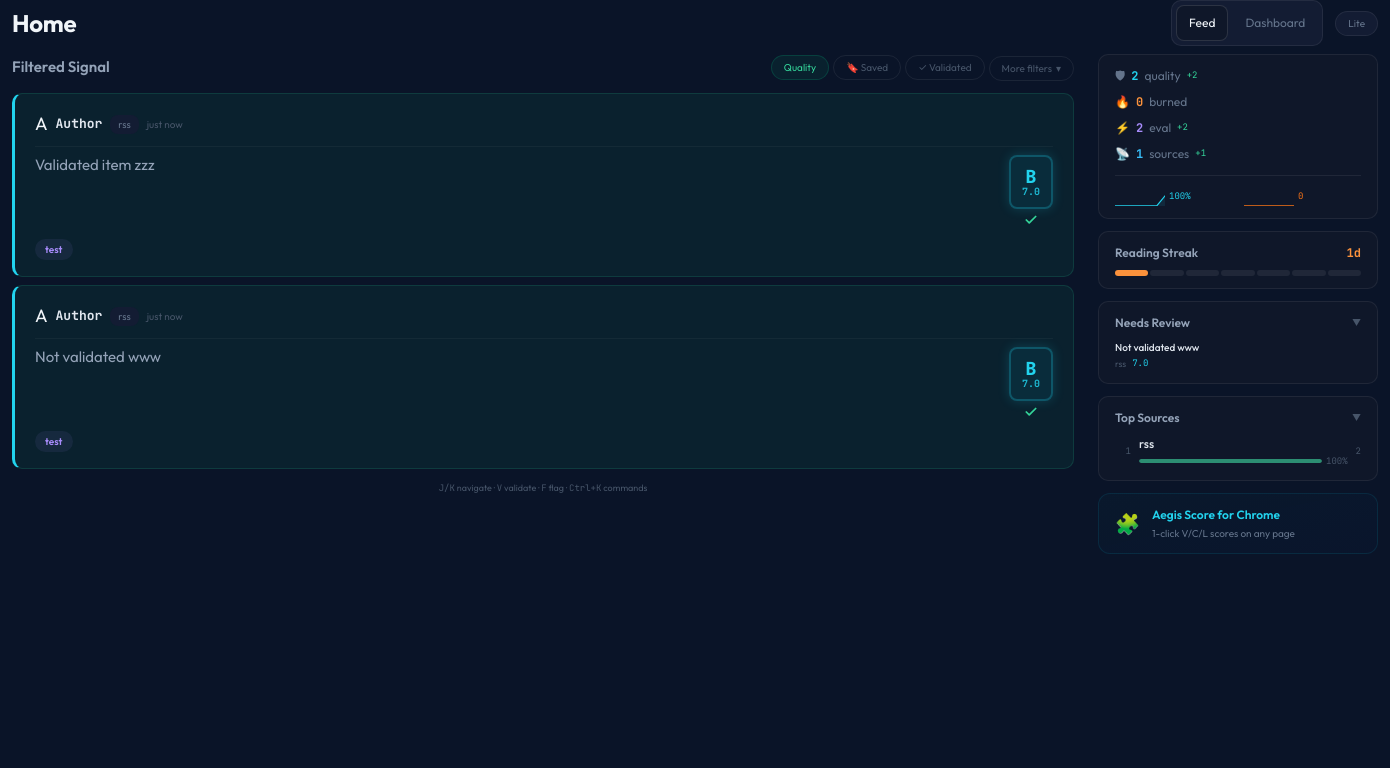
Test: DashboardTab — Latest Feed Behavior › Validated filter shows only validated items with timestamp badge
The width and height of the screenshot is (1390, 768).
Click the button with test id "aegis-filter-validated".
click(945, 68)  # box [905,55,985,80]
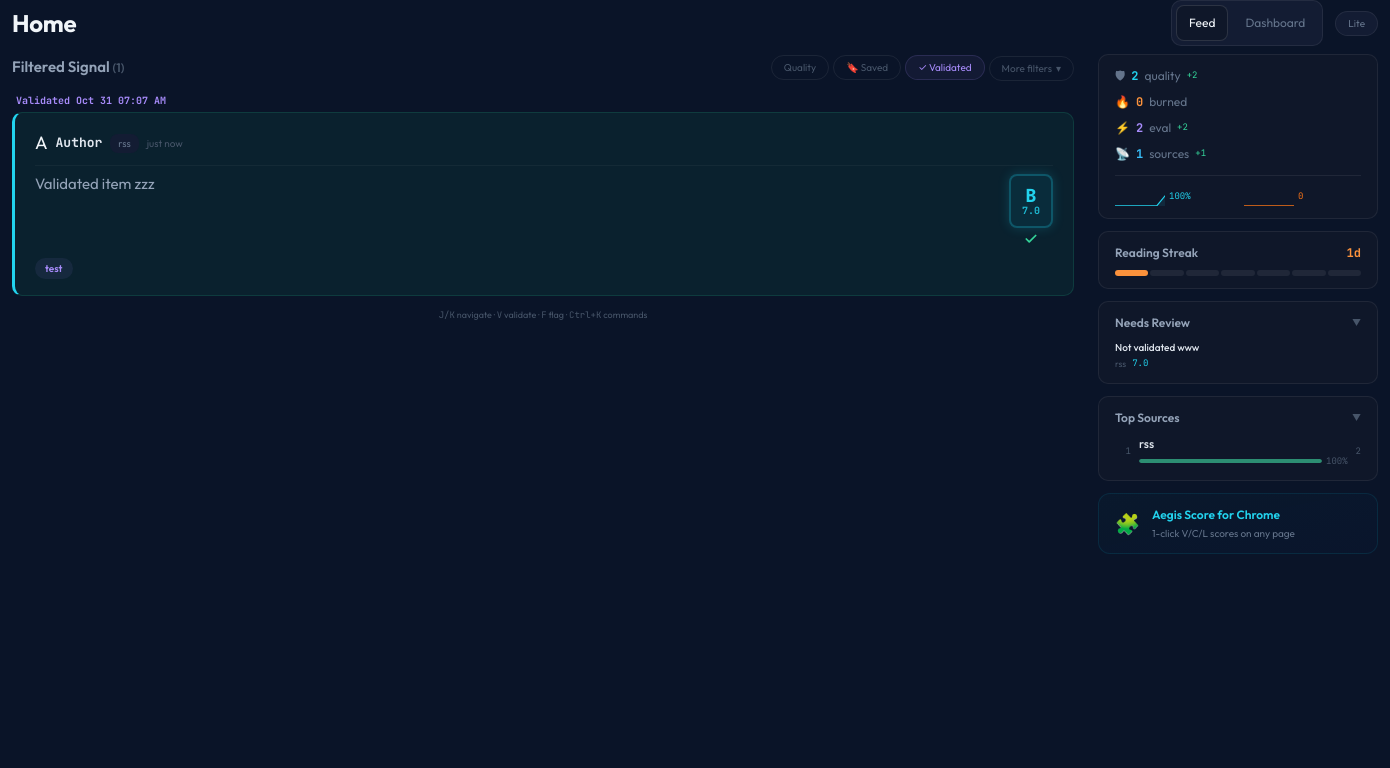
Expected: the text "Validated Oct 31 07:07 AM" is shown, [16,94,166,107]
